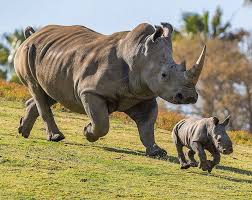Rhinoceros: (13, 11, 209, 111)
